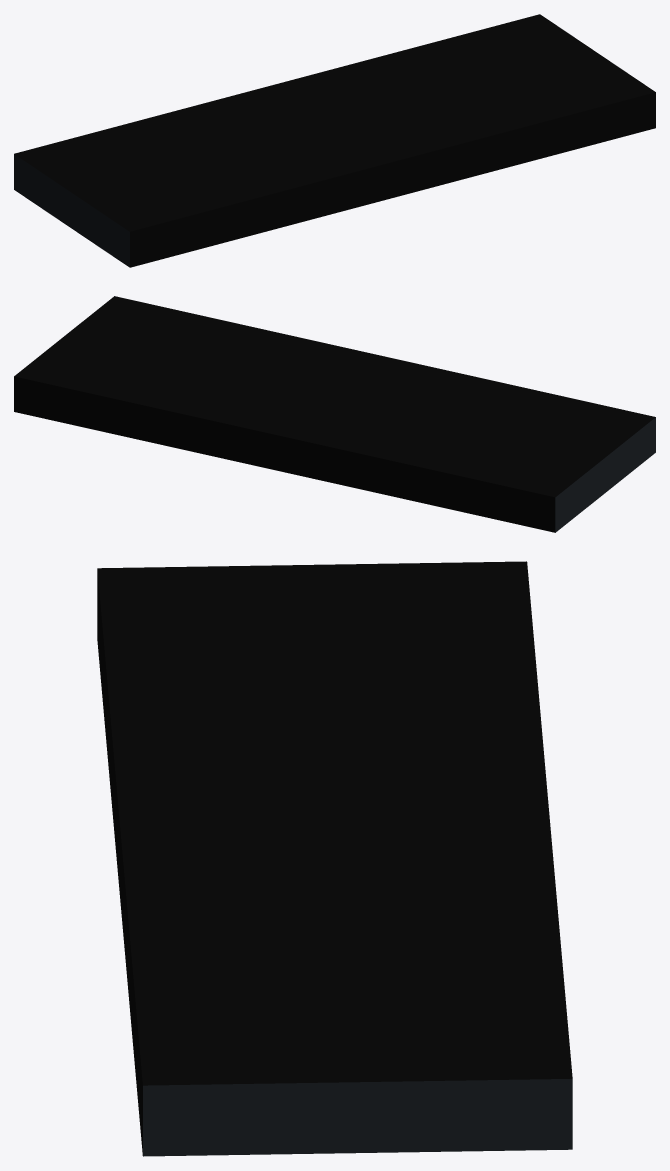
The model's file is building-in-chattanooga-tn-usa-fe34295c.glb.
The picture shows the model from 3 angles, top to bottom: view 1: azimuth 30°, elevation 25°; view 2: azimuth 150°, elevation 25°; view 3: azimuth 270°, elevation 25°; orthographic projection. The views are drawn at different scales.
Visible parts, largest first — view 1: LOD0; view 2: LOD0; view 3: LOD0.
Boxes of the visible parts, x1,y1,x2,y2 form: LOD0: (14, 14, 655, 267); LOD0: (14, 296, 655, 532); LOD0: (97, 561, 572, 1156).
Size of what is drawn, in the model's own units: 119 by 7.5 by 45.53.
Materials: 1 (1 with a texture image).
